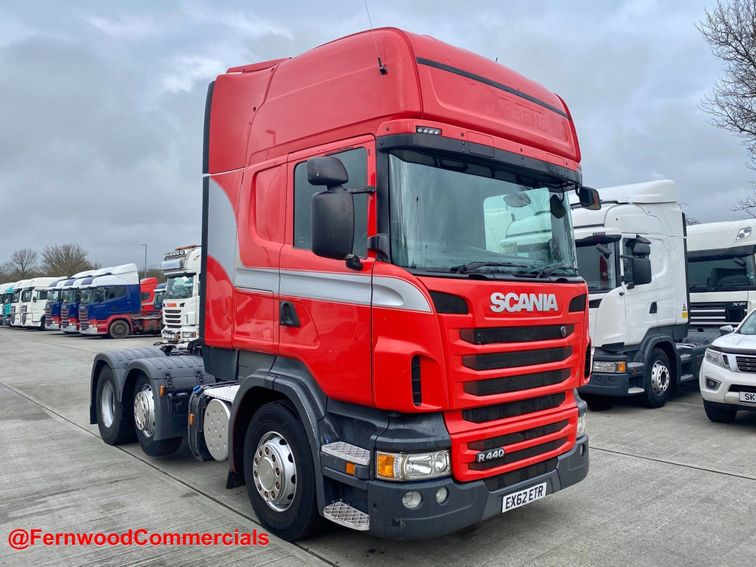Car: (698, 305, 755, 424)
Semi: (89, 27, 589, 538)
